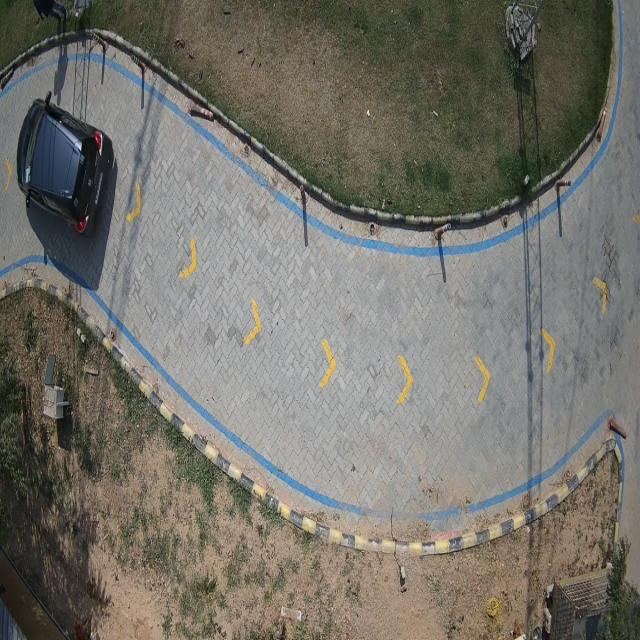car: (16, 97, 116, 234)
